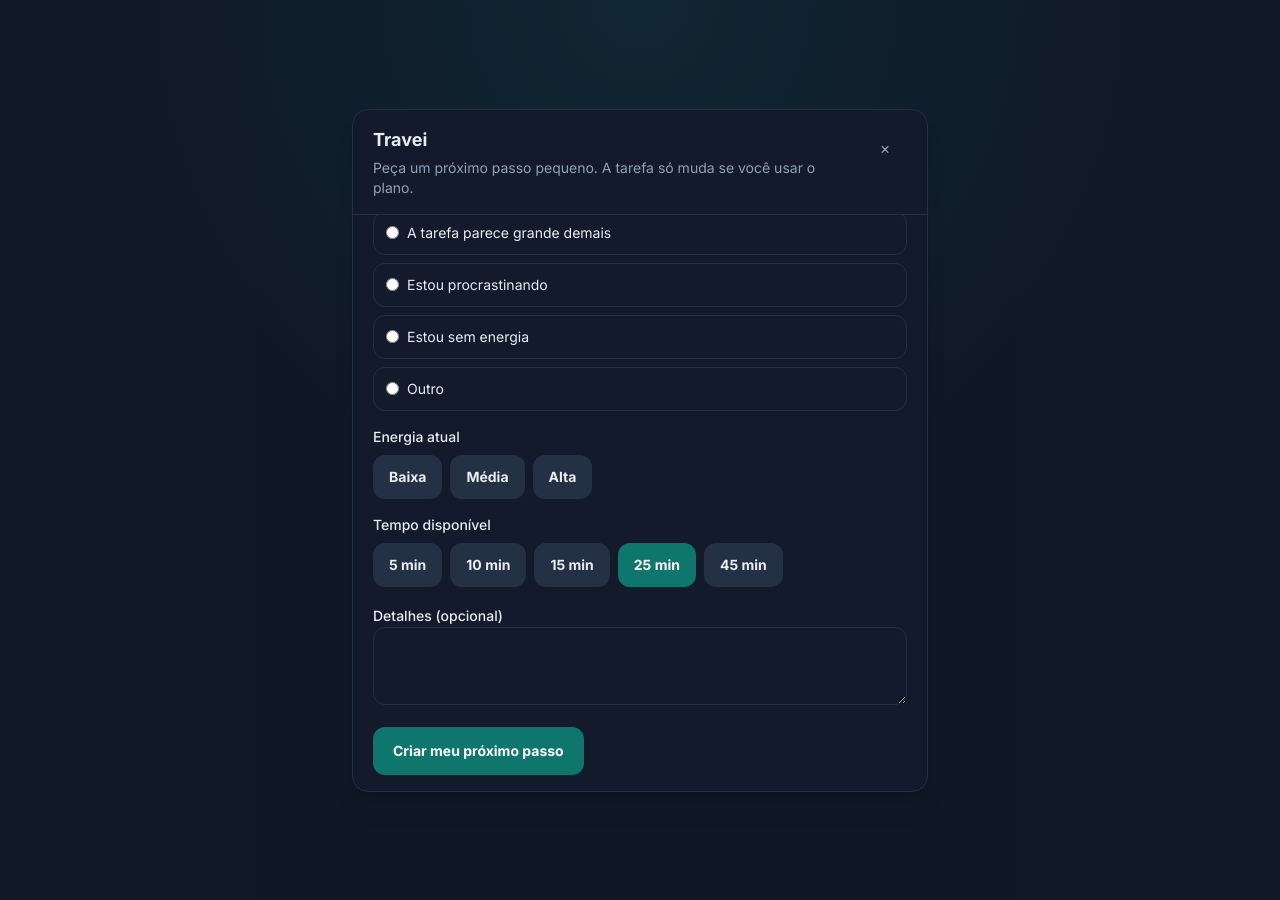
Scenario: Travei flow › does not interrupt an active cycle
The width and height of the screenshot is (1280, 900).
(page scrolled)
Click the button "Criar meu próximo passo": point(478, 750) [373,726,584,774]
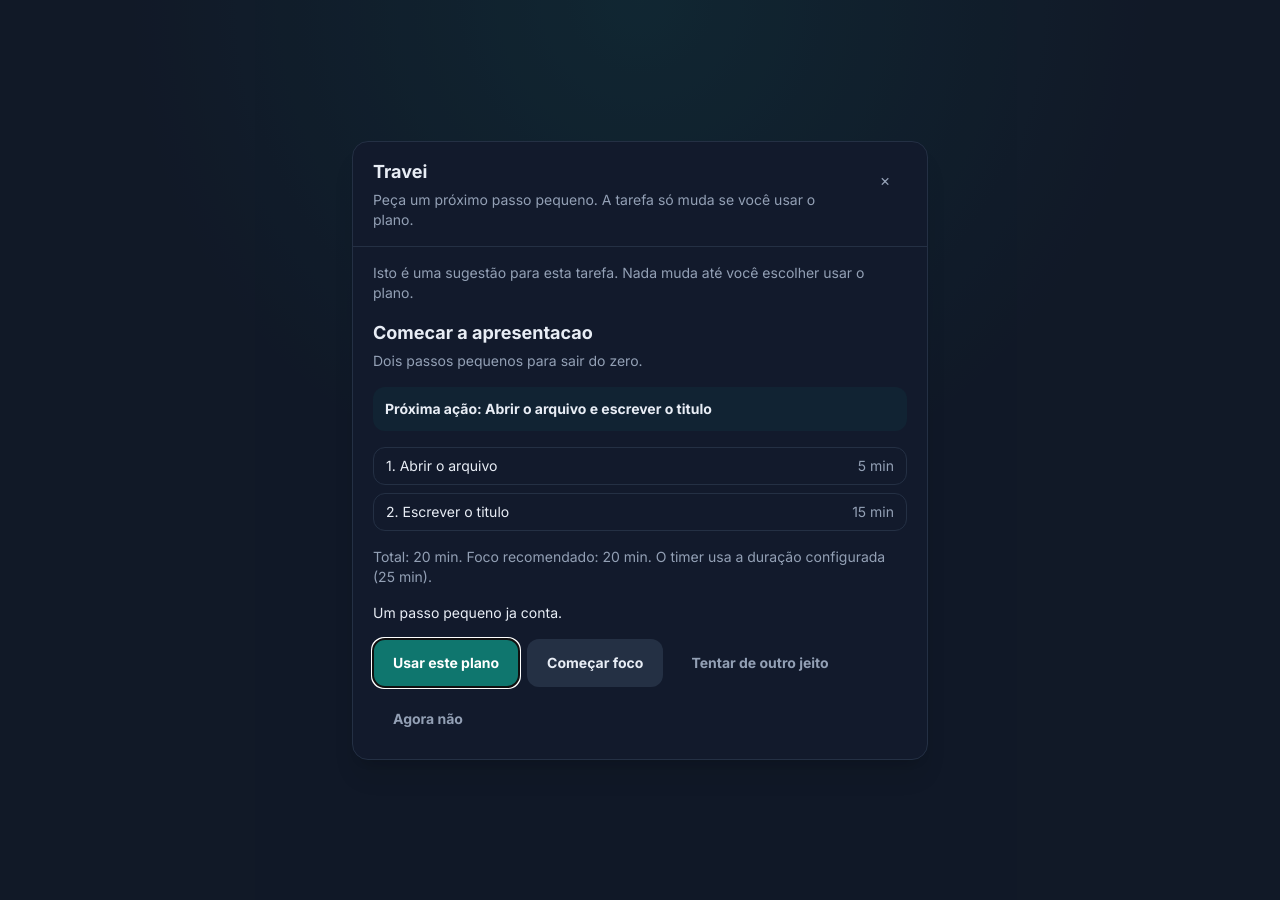
Click the button "Começar foco": point(595, 662) [527,638,663,686]
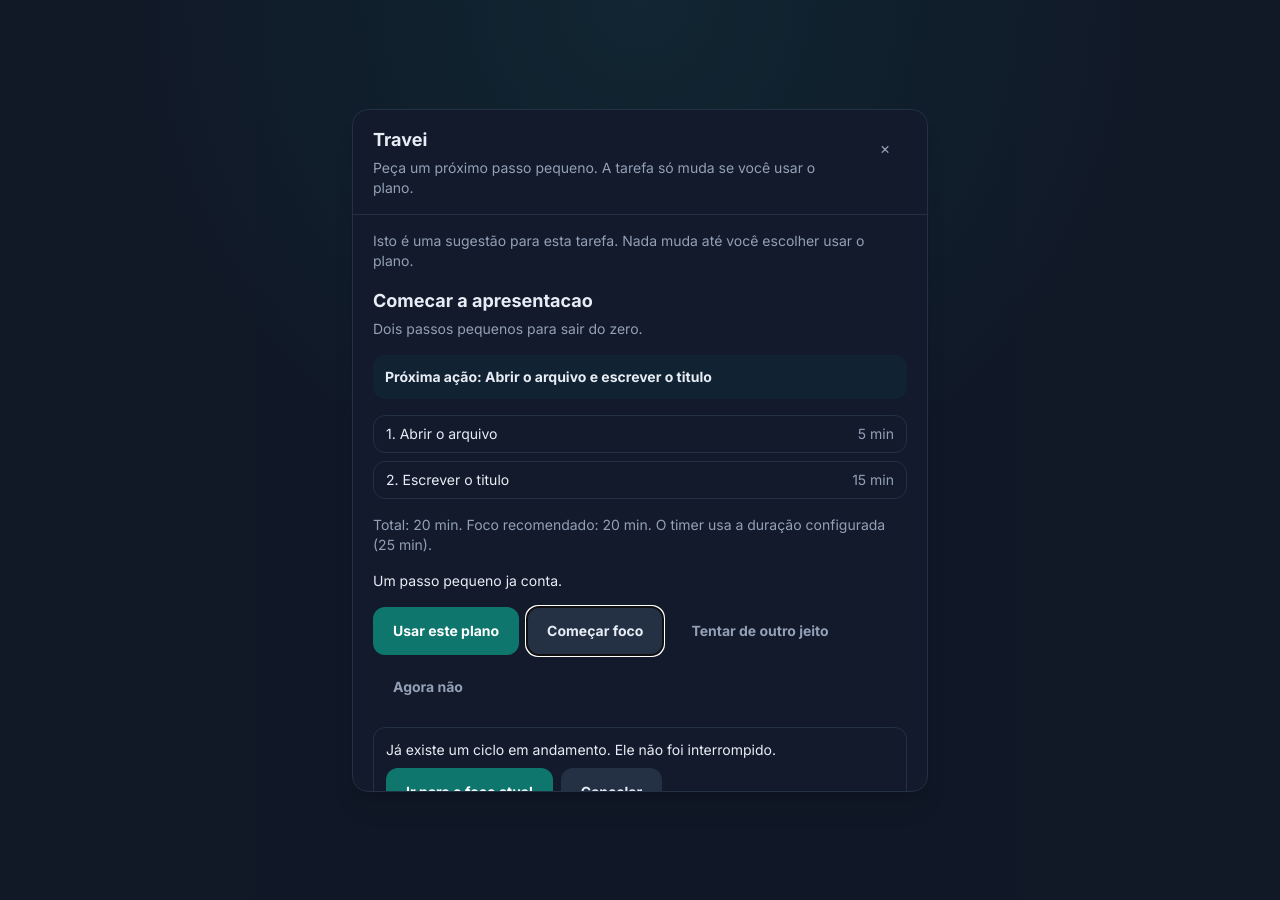
Expected: the text "Já existe um ciclo em andamento. Ele não foi interrompido." is shown, [386,740,776,758]
